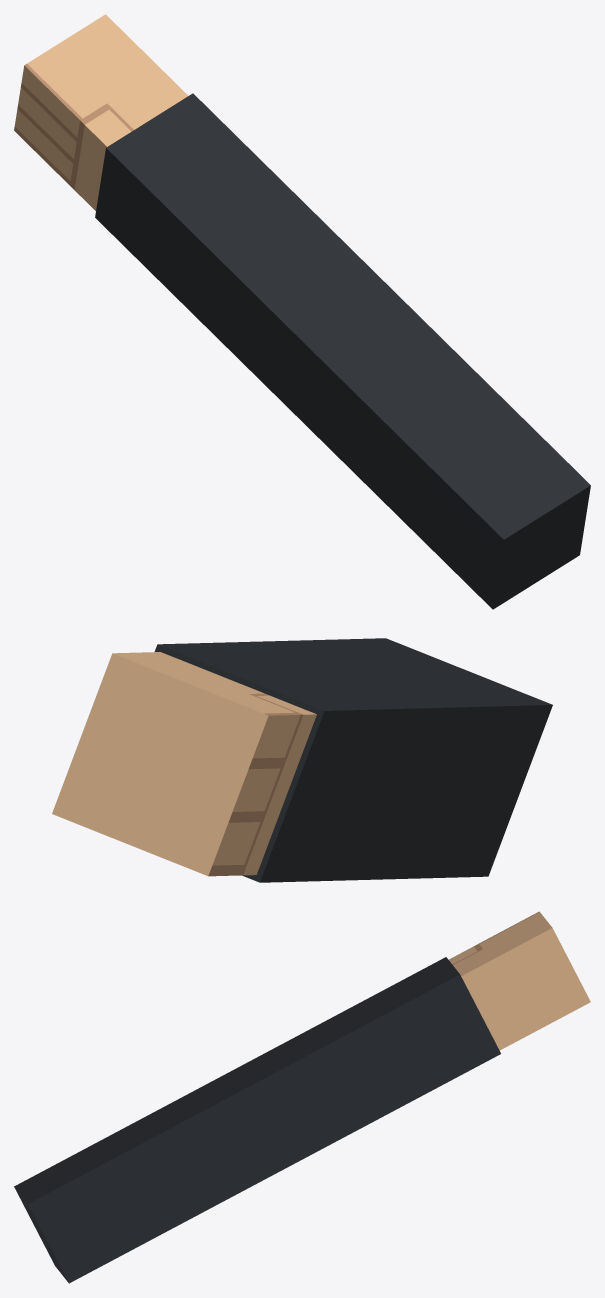
The model's file is righthand.fbx.
The picture shows the model from 3 angles, top to bottom: view 1: azimuth 30°, elevation 25°; view 2: azimuth 150°, elevation 25°; view 3: azimuth 270°, elevation 25°; orthographic projection. The views are drawn at different scales.
Parts seen in each view (by area): view 1: Cube.002; view 2: Cube.002; view 3: Cube.002.
Boxes of the visible parts, bbox=[...] form: Cube.002: bbox=[14, 14, 590, 609]; Cube.002: bbox=[52, 638, 552, 882]; Cube.002: bbox=[14, 911, 590, 1283].
Bounding box in the file's own units: 101 × 142 × 241.
